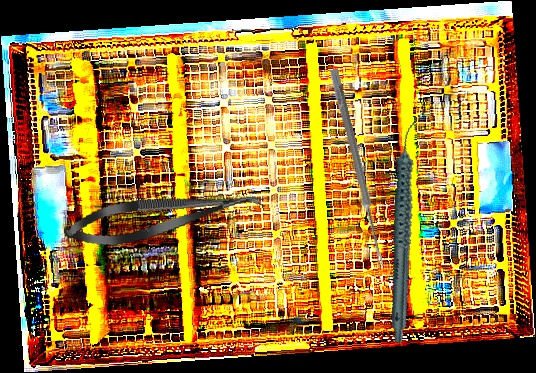Handpiece: (347, 118, 463, 344)
Micro Scissor: (61, 178, 267, 254)
Surgical Spoon: (328, 68, 387, 268)
